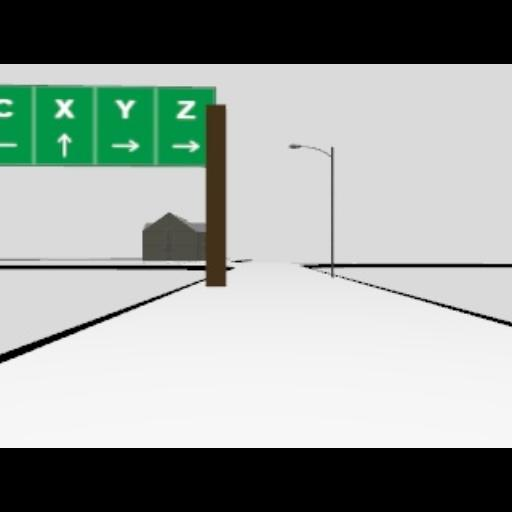C: (0, 97, 12, 116)
Left: (0, 141, 18, 147)
Right: (110, 140, 140, 152), (172, 140, 200, 152)
Straight: (56, 131, 72, 157)
X: (53, 98, 75, 118)
Y: (114, 100, 136, 118)
Z: (175, 100, 197, 118)
